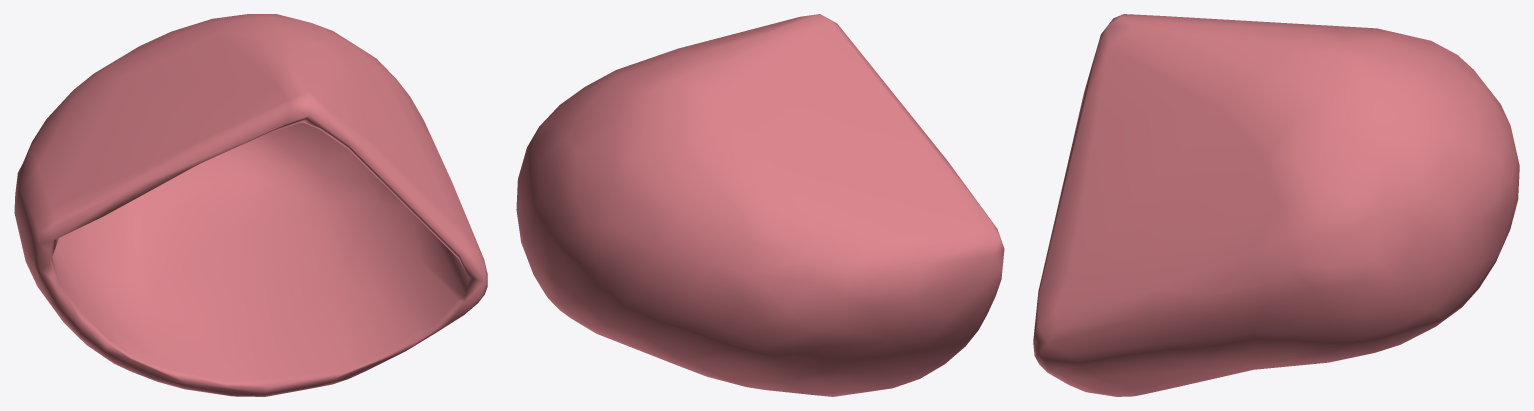
3 renders of one model, left to right at view 1: azimuth 30°, elevation 25°; view 2: azimuth 150°, elevation 25°; view 3: azimuth 270°, elevation 25°, orthographic. The views are drawn at different scales.
Parts seen in each view (by area): view 1: 主动脉瓣右冠瓣; view 2: 主动脉瓣右冠瓣; view 3: 主动脉瓣右冠瓣.
Boxes of the visible parts, left/top/right/bottom form: 主动脉瓣右冠瓣: left=14, top=14, right=487, bottom=396; 主动脉瓣右冠瓣: left=516, top=14, right=1004, bottom=396; 主动脉瓣右冠瓣: left=1033, top=14, right=1519, bottom=396.
Bounding box in the file's own units: 0.0285 × 0.0206 × 0.0246.
